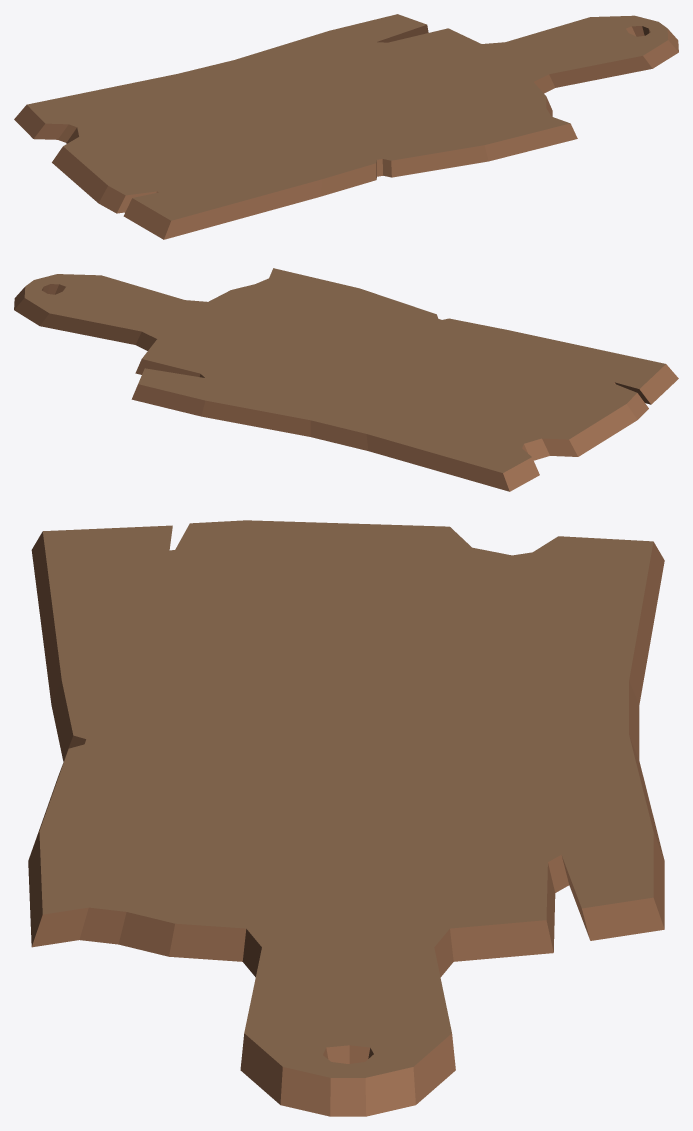
Rendered from CuttingBoard.fbx.
The picture shows the model from 3 angles, top to bottom: view 1: azimuth 30°, elevation 25°; view 2: azimuth 150°, elevation 25°; view 3: azimuth 270°, elevation 25°; orthographic projection. The views are drawn at different scales.
Visible parts, largest first — view 1: pCube1; view 2: pCube1; view 3: pCube1.
Part boxes in pixels (<box>): pCube1: <box>14,14,678,239</box>; pCube1: <box>14,268,678,491</box>; pCube1: <box>28,520,664,1116</box>.
Size of the model in its own units: 2.16 by 0.0498 by 1.01.
